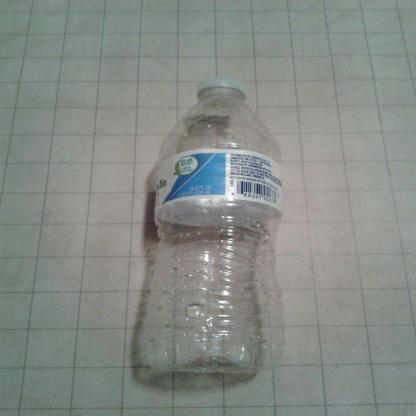Glass Bottle: (141, 78, 284, 373)
